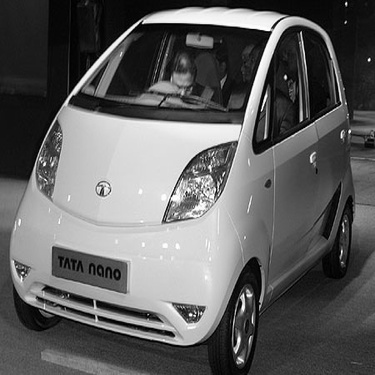car: (6, 7, 363, 373)
